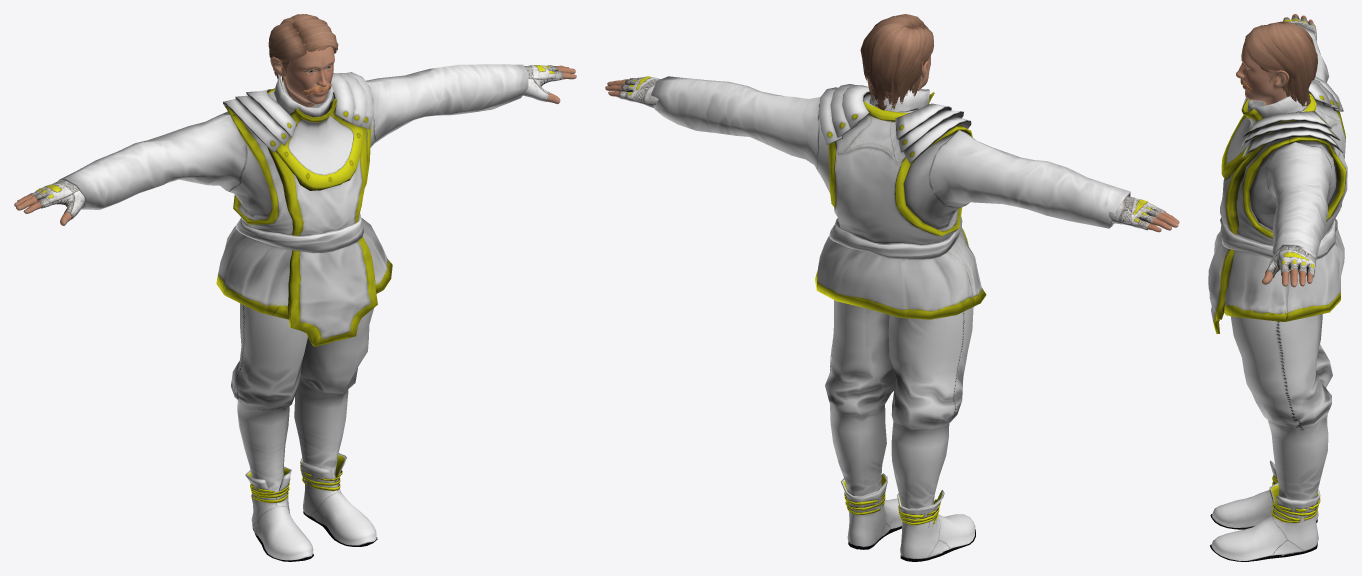
Rendered from Bumble.obj.
3 renders of one model, left to right at view 1: azimuth 30°, elevation 25°; view 2: azimuth 150°, elevation 25°; view 3: azimuth 270°, elevation 25°, orthographic. The views are drawn at different scales.
Visible parts, largest first — view 1: Tops, Bottoms, Shoes, Body, Hair, Gloves; view 2: Tops, Bottoms, Shoes, Hair, Gloves, Body; view 3: Tops, Bottoms, Shoes, Hair, Body, Gloves.
Part boxes in pixels (left/top/right/bottom): Tops: left=58, top=64, right=528, bottom=346; Bottoms: left=231, top=303, right=373, bottom=495; Shoes: left=245, top=453, right=377, bottom=561; Body: left=14, top=32, right=576, bottom=225; Hair: left=268, top=14, right=338, bottom=84; Gloves: left=28, top=65, right=563, bottom=219; Tops: left=651, top=76, right=1130, bottom=319; Bottoms: left=825, top=300, right=973, bottom=512; Shoes: left=841, top=473, right=975, bottom=561; Hair: left=860, top=14, right=933, bottom=110; Gloves: left=618, top=76, right=1165, bottom=230; Body: left=605, top=24, right=1179, bottom=232; Tops: left=1208, top=23, right=1347, bottom=333; Bottoms: left=1230, top=314, right=1332, bottom=500; Shoes: left=1210, top=460, right=1320, bottom=561; Hair: left=1244, top=21, right=1317, bottom=106; Body: left=1236, top=14, right=1313, bottom=287; Gloves: left=1265, top=16, right=1316, bottom=277.
Bounding box in the file's own units: 190 × 167 × 40.99.
Materials: 7 (7 with a texture image).
